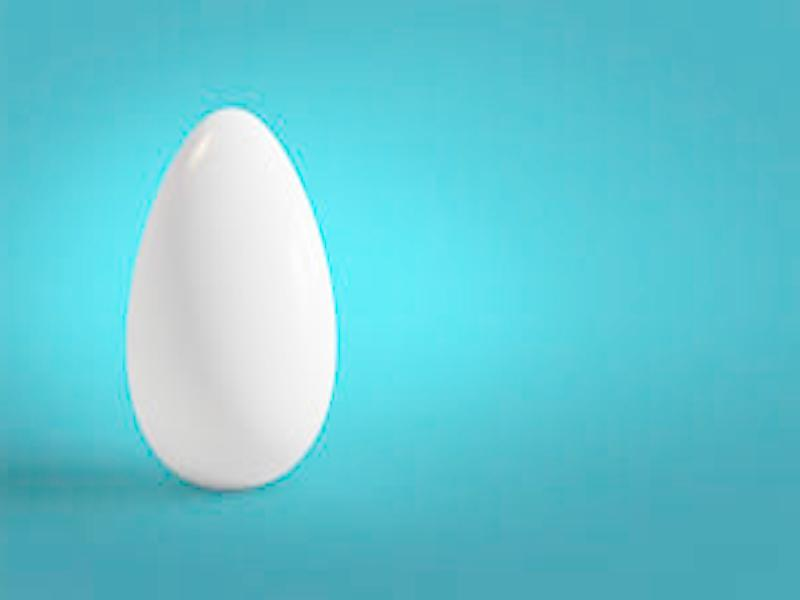Eggs: (125, 111, 336, 489)
